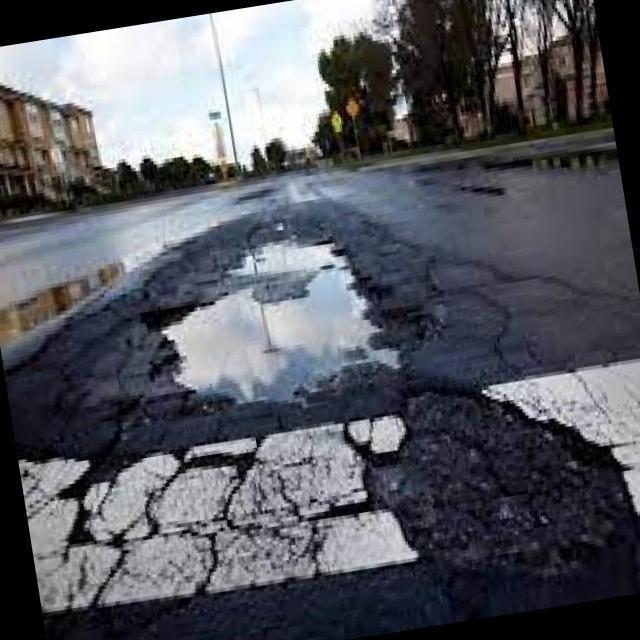Pothole: (124, 243, 442, 454)
